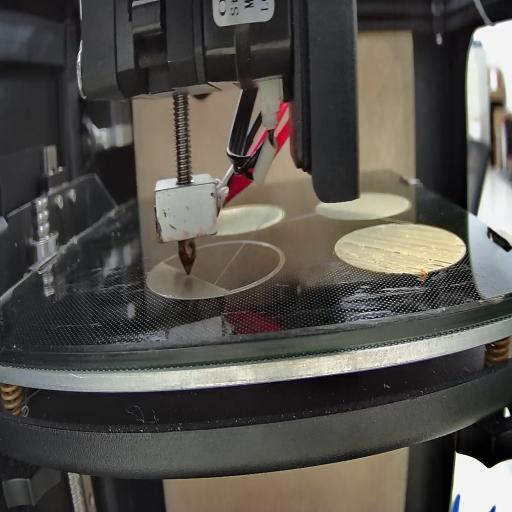under_extrusion: (344, 238, 402, 257), (424, 255, 454, 273), (454, 238, 467, 252)
